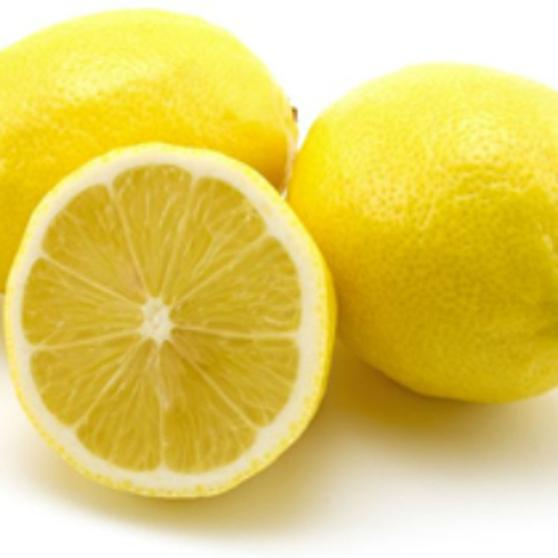lemon: (300, 52, 558, 412)
